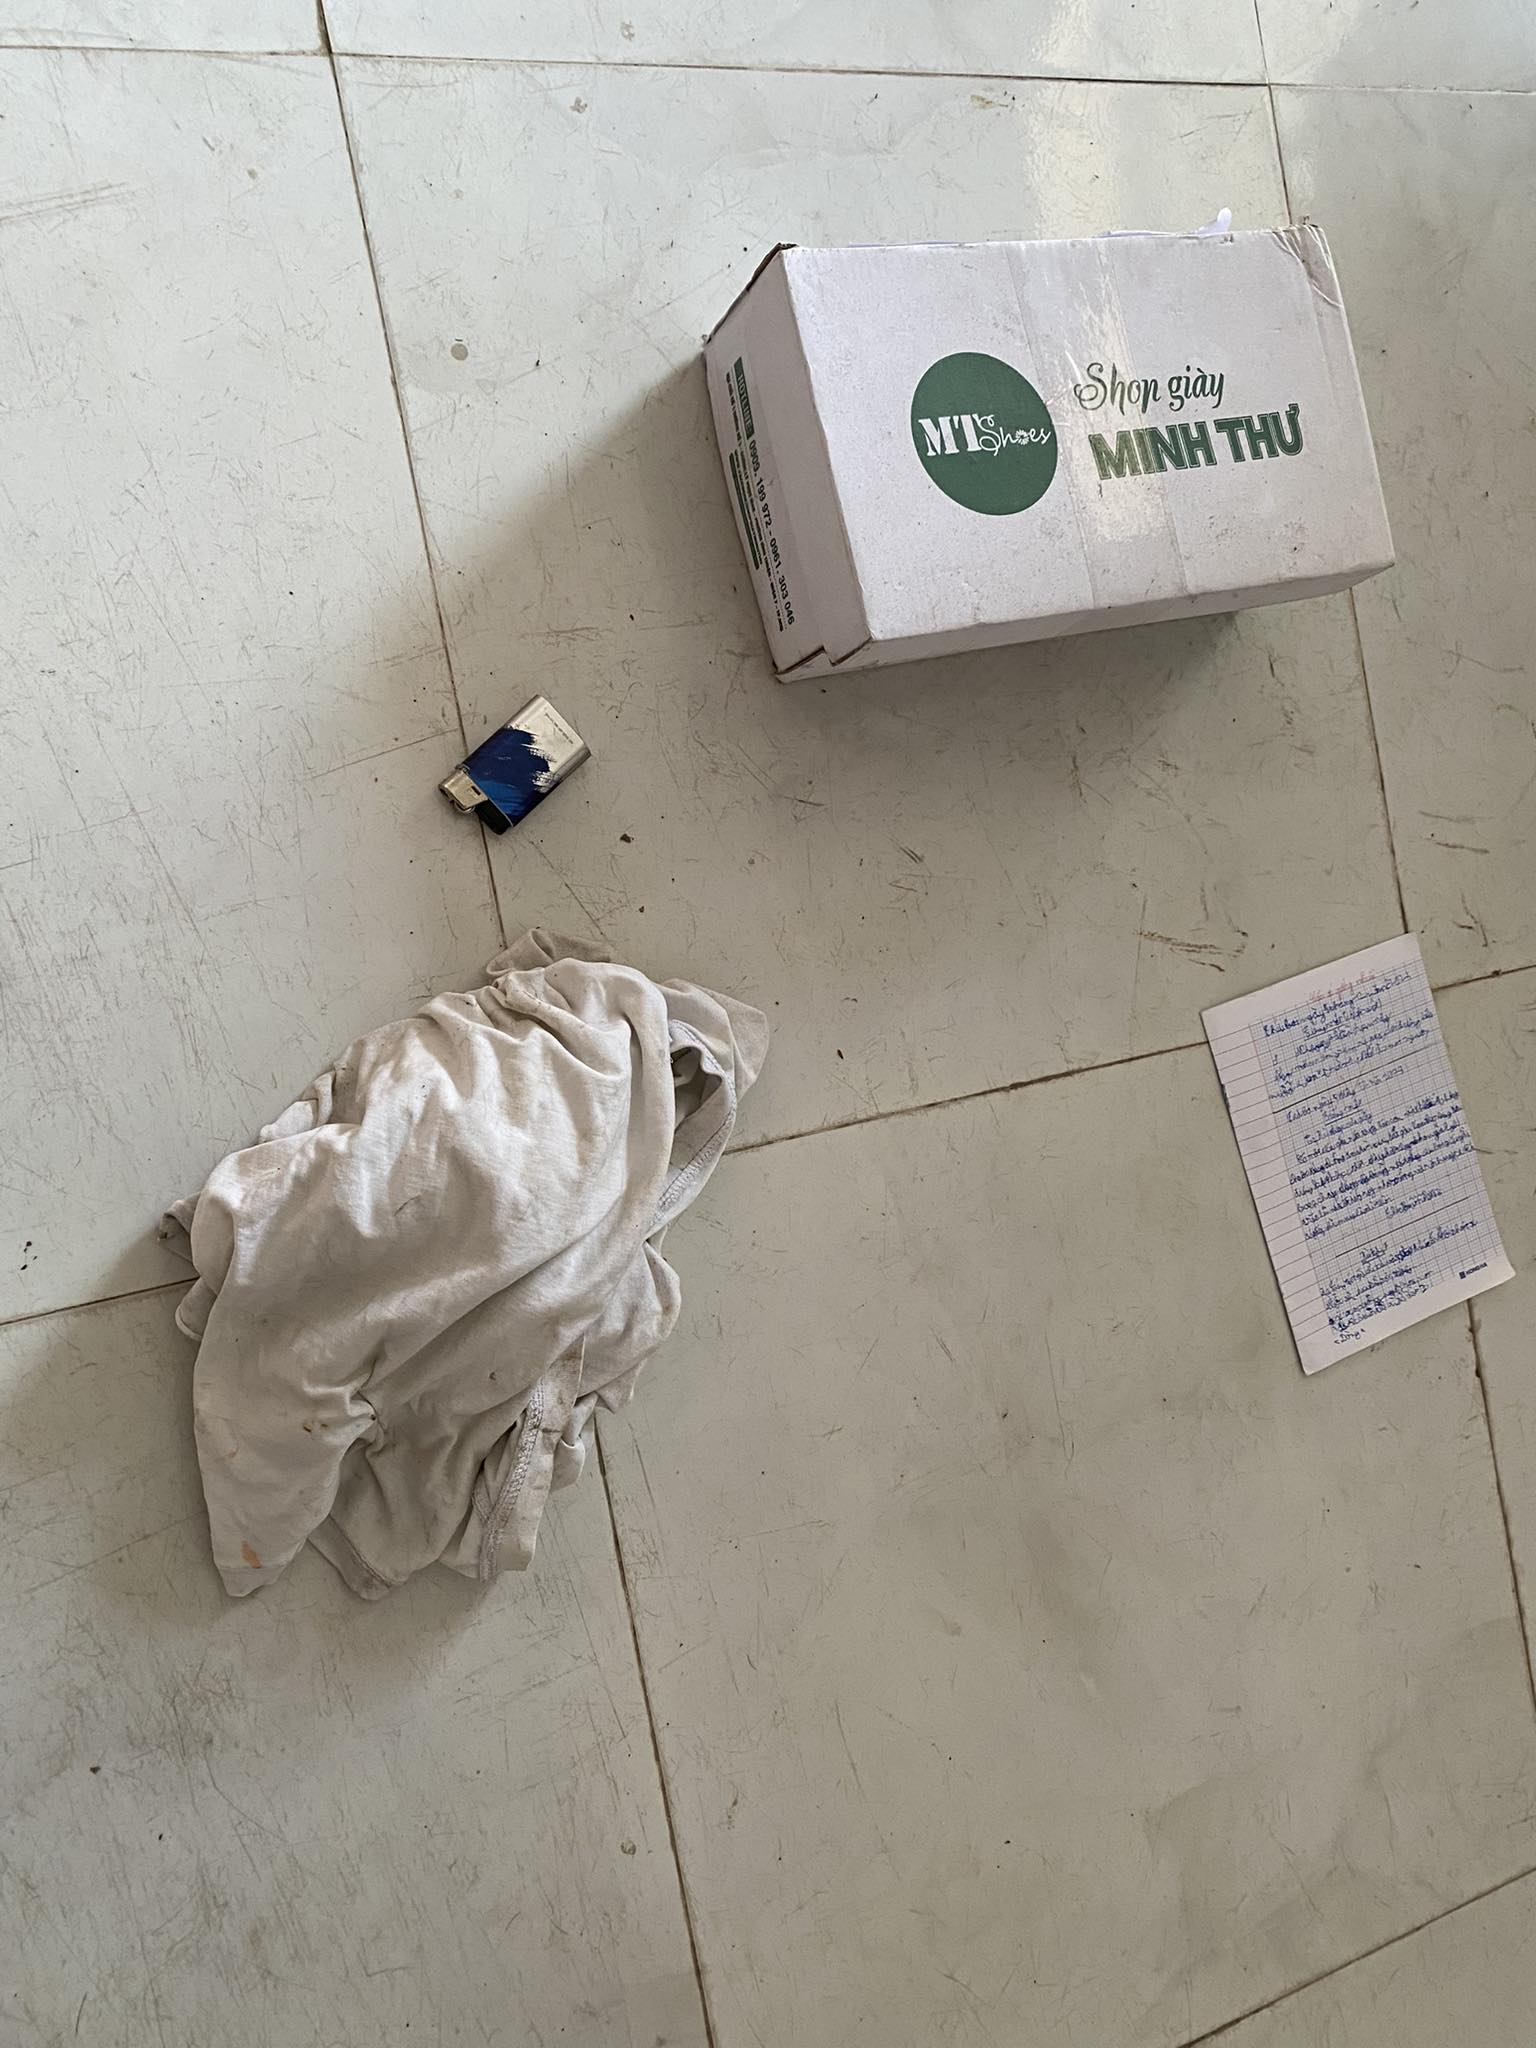cardboard: (591, 137, 1434, 682)
clothes: (168, 906, 765, 1614)
paper: (1162, 937, 1536, 1390)
plastic: (389, 632, 602, 856)
